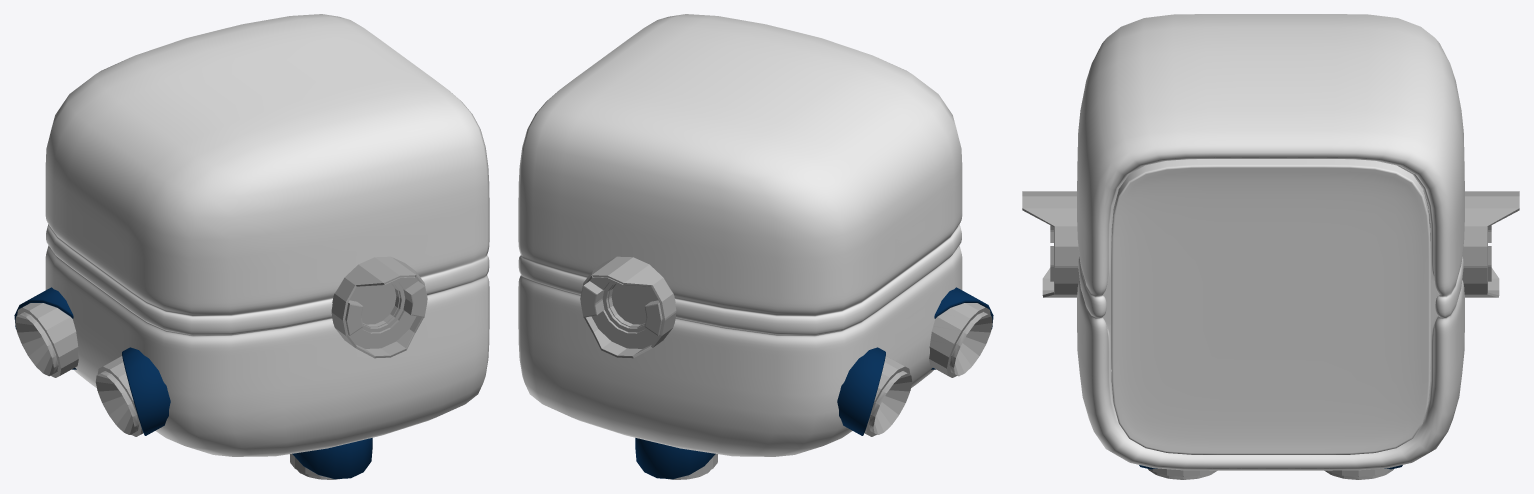
Rendered from Robot.fbx.
3 views of the same model, side by side, from view 1: azimuth 30°, elevation 25°; view 2: azimuth 150°, elevation 25°; view 3: azimuth 270°, elevation 25° (orthographic). The views are drawn at different scales.
Parts seen in each view (by area): view 1: Cube, Cylinder, Cylinder.004, Cylinder.005, Cylinder.001; view 2: Cube, Cylinder, Cylinder.004, Cylinder.005, Cylinder.001; view 3: Cube, Cylinder, Cylinder.002.
Boxes of the visible parts, x1,y1,x2,y2 form: Cube: (45, 14, 489, 456); Cylinder: (331, 256, 427, 358); Cylinder.004: (15, 303, 143, 436); Cylinder.005: (14, 287, 170, 435); Cylinder.001: (292, 438, 372, 479); Cube: (518, 14, 962, 456); Cylinder: (580, 256, 676, 358); Cylinder.004: (864, 303, 992, 436); Cylinder.005: (837, 287, 993, 435); Cylinder.001: (635, 438, 715, 479); Cube: (1077, 14, 1464, 470); Cylinder: (1022, 191, 1519, 297); Cylinder.002: (1148, 468, 1393, 479).
Size of the model in its own units: 220 by 221 by 253.
